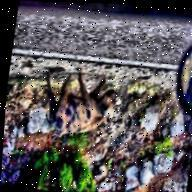boar: (32, 51, 132, 158)
